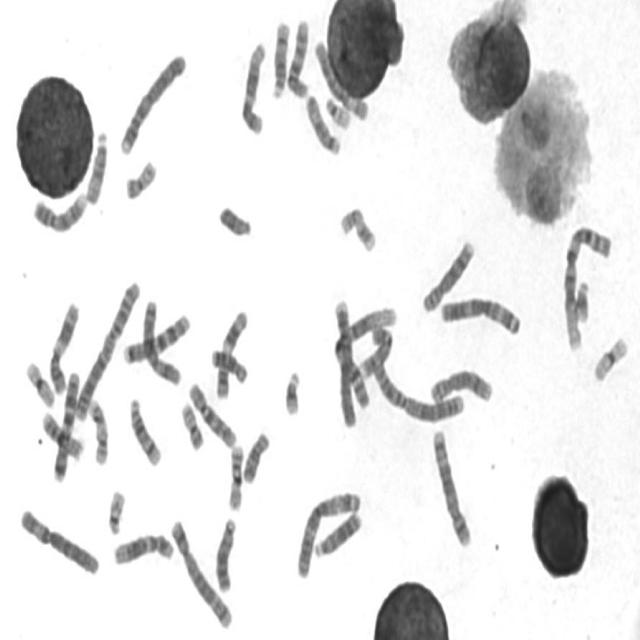A1: (330, 304, 402, 407), (559, 219, 613, 353)
A2: (71, 275, 142, 424), (365, 352, 466, 425)
A3: (292, 486, 362, 580), (436, 289, 522, 337)
B4: (115, 46, 188, 158), (324, 292, 364, 433)
B5: (166, 512, 234, 631), (429, 423, 473, 549)
C10: (185, 377, 238, 450), (283, 14, 311, 100)
C11: (212, 303, 250, 400), (46, 296, 80, 396)
C12: (237, 35, 268, 136), (110, 527, 176, 566)
C6: (16, 502, 101, 578), (311, 35, 370, 122)
C7: (120, 308, 192, 365), (48, 365, 82, 484)
C8: (418, 234, 476, 314), (426, 363, 494, 406)
C9: (29, 186, 89, 236), (356, 322, 394, 380)
D13: (310, 508, 363, 560), (211, 512, 238, 595)
D14: (125, 391, 163, 468), (268, 15, 291, 100)
D15: (302, 90, 342, 158), (82, 124, 109, 207)
E16: (39, 405, 84, 461), (224, 438, 245, 512)
E17: (336, 202, 378, 254), (85, 392, 110, 467)
E18: (239, 425, 271, 485), (207, 342, 250, 386)
F19: (590, 330, 630, 383), (21, 355, 56, 409)
F20: (122, 154, 158, 201), (177, 396, 205, 452)
G21: (280, 364, 302, 418), (571, 274, 591, 324)
G22: (104, 484, 127, 536), (322, 92, 352, 130)
X: (140, 294, 183, 388)
Y: (215, 200, 253, 239)
